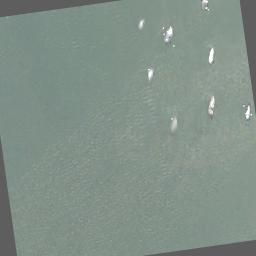boat: (204, 96, 218, 118), (162, 26, 174, 48), (134, 16, 146, 31), (169, 115, 178, 133), (243, 102, 252, 120), (148, 66, 156, 83), (207, 48, 215, 64), (200, 0, 208, 10)
